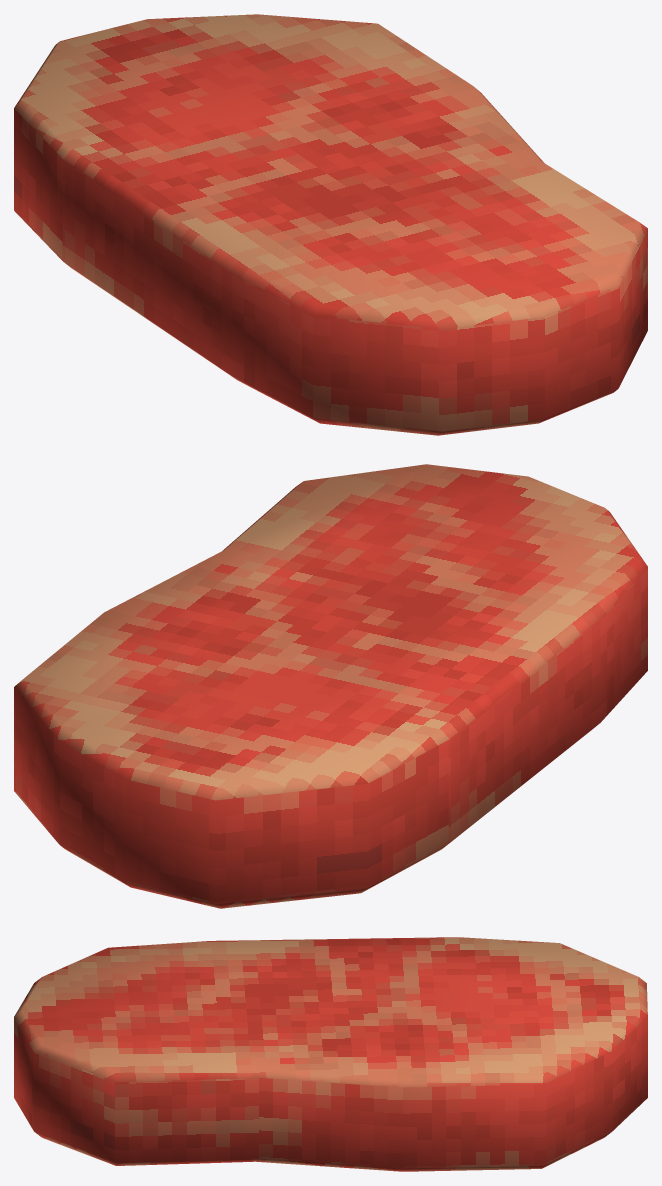
File: Beef.fbx
The picture shows the model from 3 angles, top to bottom: view 1: azimuth 30°, elevation 25°; view 2: azimuth 150°, elevation 25°; view 3: azimuth 270°, elevation 25°; orthographic projection. The views are drawn at different scales.
Parts seen in each view (by area): view 1: Beef_Meat; view 2: Beef_Meat; view 3: Beef_Meat.
Boxes of the visible parts, x1,y1,x2,y2 form: Beef_Meat: (14, 14, 647, 435); Beef_Meat: (14, 464, 647, 908); Beef_Meat: (14, 937, 647, 1171).
Size of the model in its own units: 0.1591 by 0.0469 by 0.2898.
1 material, 1 textured.
